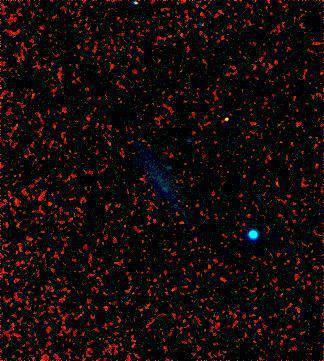star: (211, 104, 241, 134)
